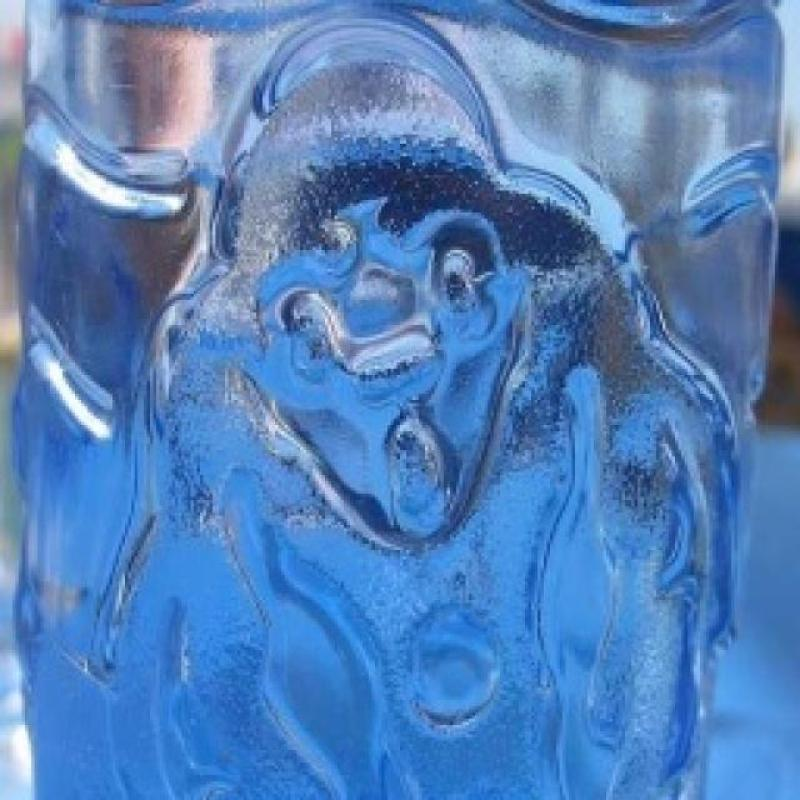botella: (10, 0, 790, 800)
